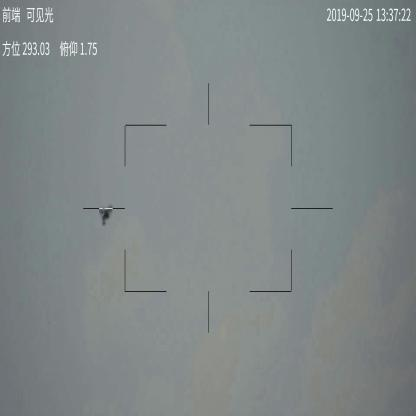uav: (97, 204, 115, 228)
